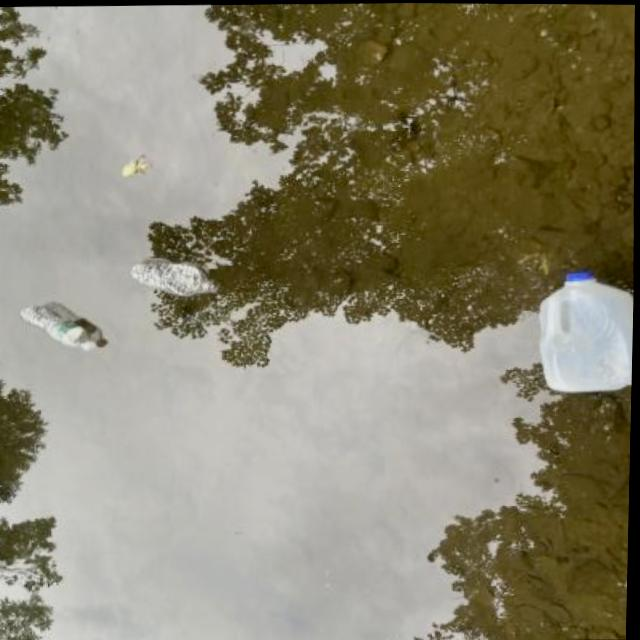Plastic: (528, 260, 636, 405), (15, 292, 107, 357), (127, 248, 223, 308)
